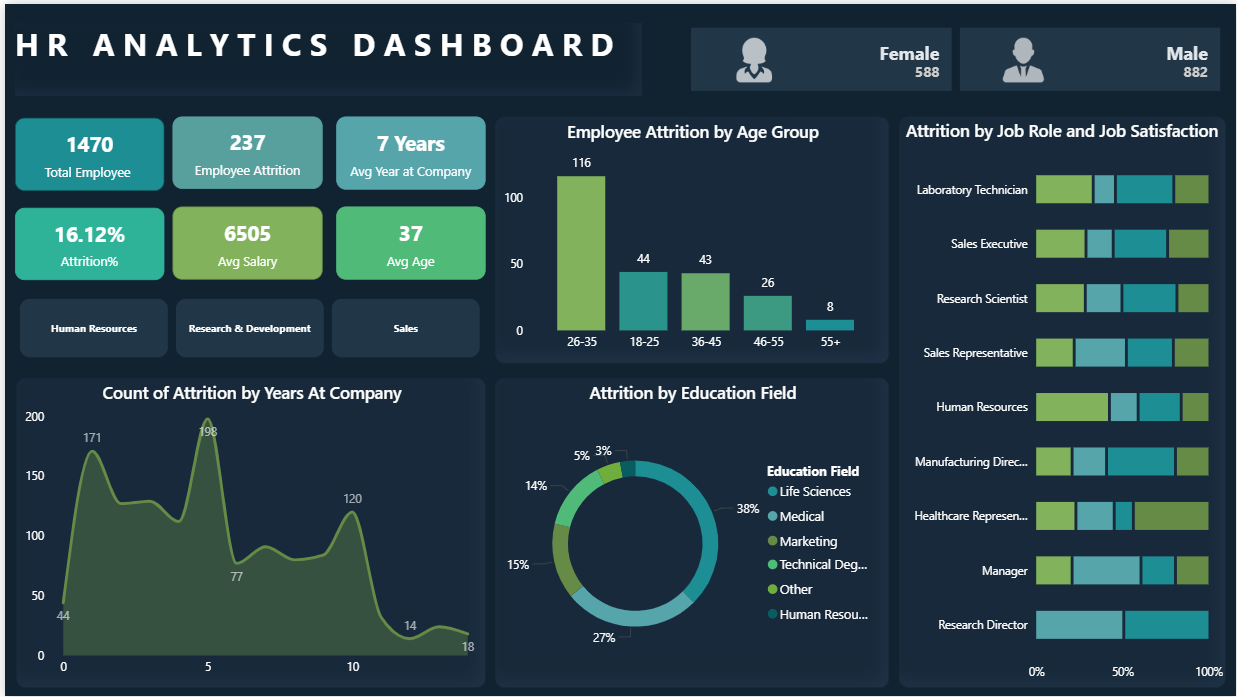

This screenshot's page, from the dashboard's own definition file:
{"tool":"powerbi","page":{"name":"Overview Dashboard","canvas":[1280,720],"ordinal":0},"visuals":[{"type":"advancedSlicerVisual","fields":{"Values":["HR_Analytics.Gender"]},"box":[707.5,20,561.2,76.2],"z":0},{"type":"card","fields":{"Values":["HR_Analytics.Employee_Count"]},"box":[10,118.8,155,76.2],"z":1000},{"type":"card","fields":{"Values":["HR_Analytics.Employee_Attrition"]},"box":[173.8,117.5,156.2,75],"z":2000},{"type":"card","fields":{"Values":["HR_Analytics.Year_With_Text"]},"box":[343.8,116.2,155,76.2],"z":3000},{"type":"card","fields":{"Values":["HR_Analytics.Attrition%"]},"box":[10,211.2,155,75],"z":4000},{"type":"card","fields":{"Values":["HR_Analytics.Avg_Salary"]},"box":[173.8,210,156.2,76.2],"z":5000},{"type":"card","fields":{"Values":["HR_Analytics.Avg_Age"]},"box":[343.8,210,155,76.2],"z":6000},{"type":"areaChart","fields":{"Category":["HR_Analytics.YearsAtCompany"],"Y":["CountNonNull(HR_Analytics.Attrition)"]},"box":[10,387.5,488.8,322.5],"z":7000},{"type":"donutChart","fields":{"Y":["HR_Analytics.Employee_Attrition"],"Category":["HR_Analytics.EducationField"]},"box":[518.8,387.5,391.2,322.5],"z":8000},{"type":"clusteredColumnChart","fields":{"Category":["HR_Analytics.AgeGroup"],"Y":["HR_Analytics.Employee_Attrition"]},"box":[517.5,116.2,392.5,256.2],"z":9000},{"type":"hundredPercentStackedBarChart","fields":{"Y":["HR_Analytics.Employee_Attrition"],"Series":["HR_Analytics.JobSatisfaction"],"Category":["HR_Analytics.JobRole"]},"box":[928.8,116.2,340,593.8],"z":10000},{"type":"image","box":[742.5,35,71.2,46.2],"z":11000},{"type":"image","box":[1032.5,35,51.2,46.2],"z":12000},{"type":"advancedSlicerVisual","fields":{"Values":["HR_Analytics.Department"]},"box":[10,308.8,490,63.8],"z":13000},{"type":"textbox","box":[10,20,651.2,76.2],"z":14000}]}

Visuals, with their boxes in screenshot pixels (x1, y1, x2, y2), scaled from the page's 1280x720 canvas onto the 1237x697 screenshot:
advancedSlicerVisual - HR_Analytics.Gender: 684, 19, 1226, 93
card - HR_Analytics.Employee_Count: 10, 115, 159, 189
card - HR_Analytics.Employee_Attrition: 168, 114, 319, 186
card - HR_Analytics.Year_With_Text: 332, 112, 482, 186
card - HR_Analytics.Attrition%: 10, 204, 159, 277
card - HR_Analytics.Avg_Salary: 168, 203, 319, 277
card - HR_Analytics.Avg_Age: 332, 203, 482, 277
areaChart - HR_Analytics.YearsAtCompany x CountNonNull(HR_Analytics.Attrition): 10, 375, 482, 687
donutChart - HR_Analytics.Employee_Attrition x HR_Analytics.EducationField: 501, 375, 879, 687
clusteredColumnChart - HR_Analytics.AgeGroup x HR_Analytics.Employee_Attrition: 500, 112, 879, 361
hundredPercentStackedBarChart - HR_Analytics.Employee_Attrition x HR_Analytics.JobSatisfaction: 898, 112, 1226, 687
image: 718, 34, 786, 79
image: 998, 34, 1047, 79
advancedSlicerVisual - HR_Analytics.Department: 10, 299, 483, 361
textbox: 10, 19, 639, 93
